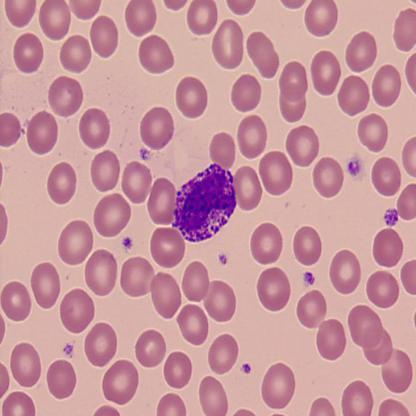Basophil: (170, 160, 237, 245)
